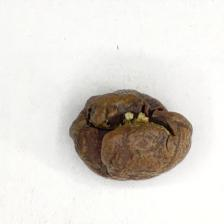NG: (77, 92, 180, 174)
